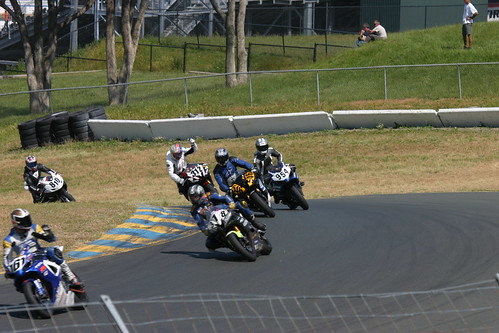helmet: (7, 206, 33, 230), (184, 184, 209, 204), (250, 133, 271, 153), (211, 144, 232, 161), (23, 153, 38, 169), (166, 141, 181, 156)
